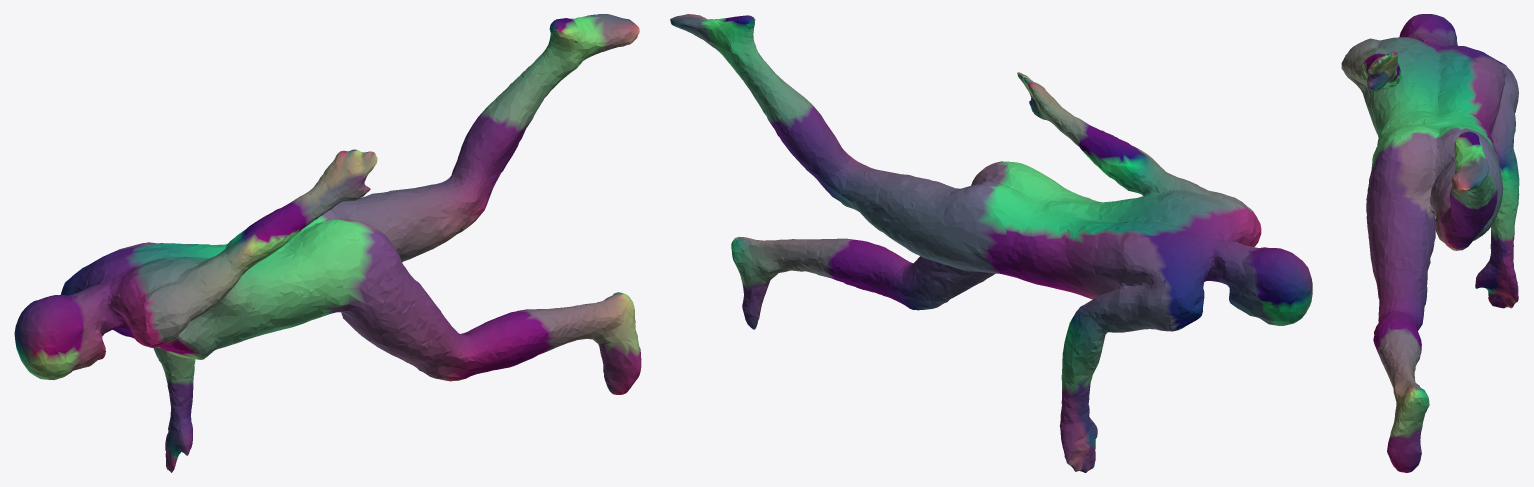
The model's file is man-20.off.obj.
3 views of the same model, side by side, from view 1: azimuth 30°, elevation 25°; view 2: azimuth 150°, elevation 25°; view 3: azimuth 270°, elevation 25° (orthographic). The views are drawn at different scales.
Size of the model in its own units: 1.52 by 0.8436 by 0.3957.
